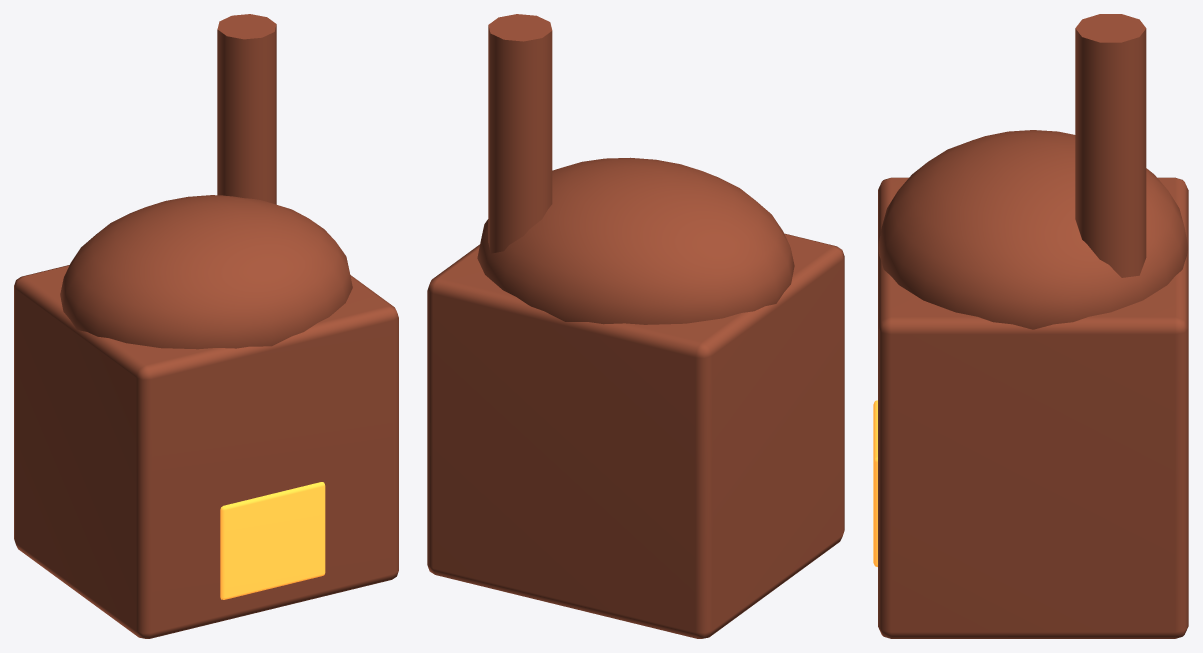
Rendered from kiln.glb.
3 renders of one model, left to right at view 1: azimuth 30°, elevation 25°; view 2: azimuth 150°, elevation 25°; view 3: azimuth 270°, elevation 25°, orthographic. The views are drawn at different scales.
Parts seen in each view (by area): view 1: Body, Dome, Chimney, Mouth; view 2: Body, Dome, Chimney; view 3: Body, Dome, Chimney, Mouth.
Part boxes in pixels (bbox=[...]): Body: bbox=[14, 265, 398, 638]; Dome: bbox=[60, 195, 352, 349]; Chimney: bbox=[217, 14, 276, 204]; Mouth: bbox=[220, 482, 325, 599]; Body: bbox=[427, 233, 844, 638]; Dome: bbox=[477, 157, 794, 324]; Chimney: bbox=[488, 14, 552, 253]; Body: bbox=[878, 177, 1188, 638]; Dome: bbox=[878, 130, 1188, 329]; Chimney: bbox=[1075, 14, 1146, 277]; Mouth: bbox=[873, 400, 877, 566].
Size of the model in its own units: 1.6 by 2.9 by 1.42.
